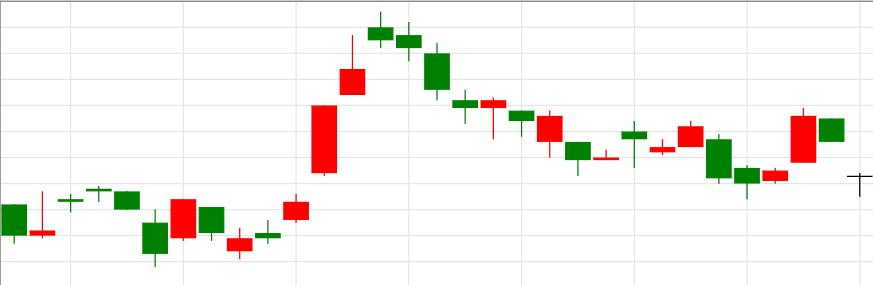shooting_star_fall: (227, 35, 366, 259)
